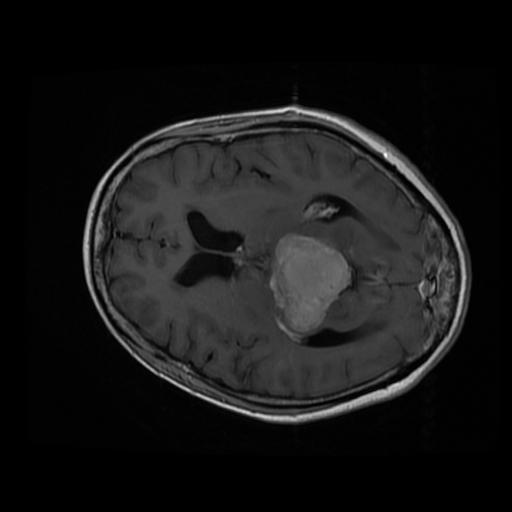meningioma: (269, 233, 352, 333)
